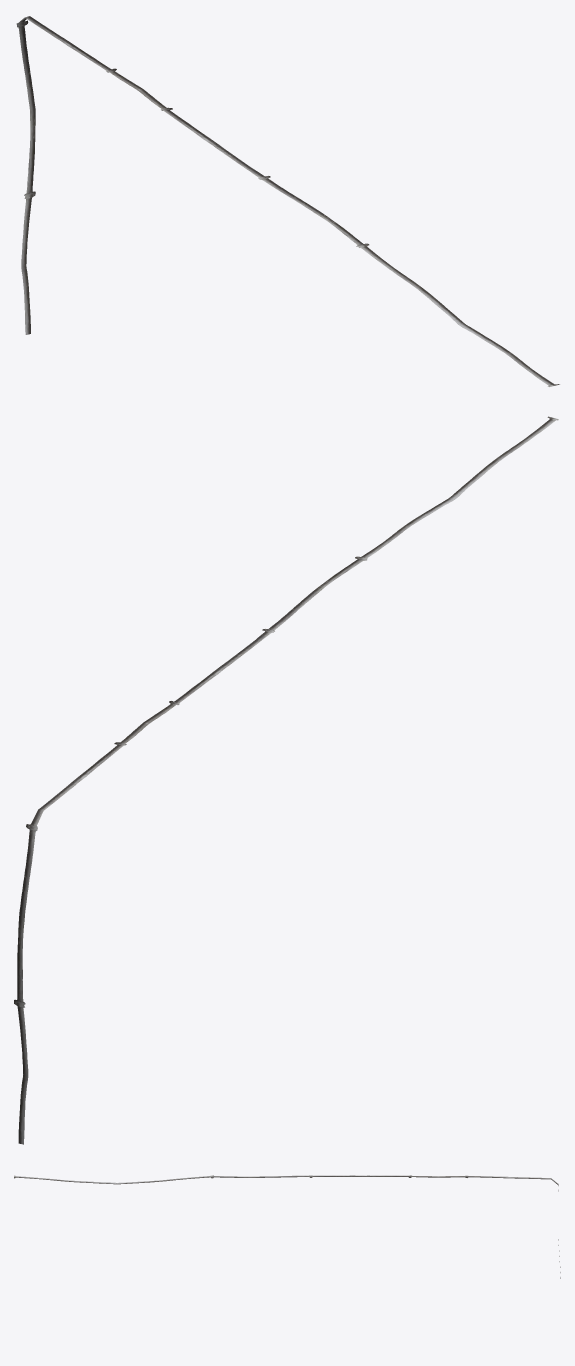
File: ThickWire_T04.FBX
3 views of the same model, one above another, from view 1: azimuth 30°, elevation 25°; view 2: azimuth 150°, elevation 25°; view 3: azimuth 270°, elevation 25° (orthographic). The views are drawn at different scales.
Visible parts, largest first — view 1: ThickWire_T04; view 2: ThickWire_T04; view 3: ThickWire_T04.
Part boxes in pixels (x1=…): ThickWire_T04: x1=16, y1=16, x2=559, y2=386; ThickWire_T04: x1=14, y1=416, x2=558, y2=1144; ThickWire_T04: x1=14, y1=1175, x2=560, y2=1278.
Bounding box in the file's own units: 4.83 × 62.65 × 179.
